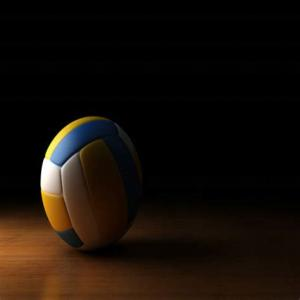Volley: (39, 114, 142, 254)
